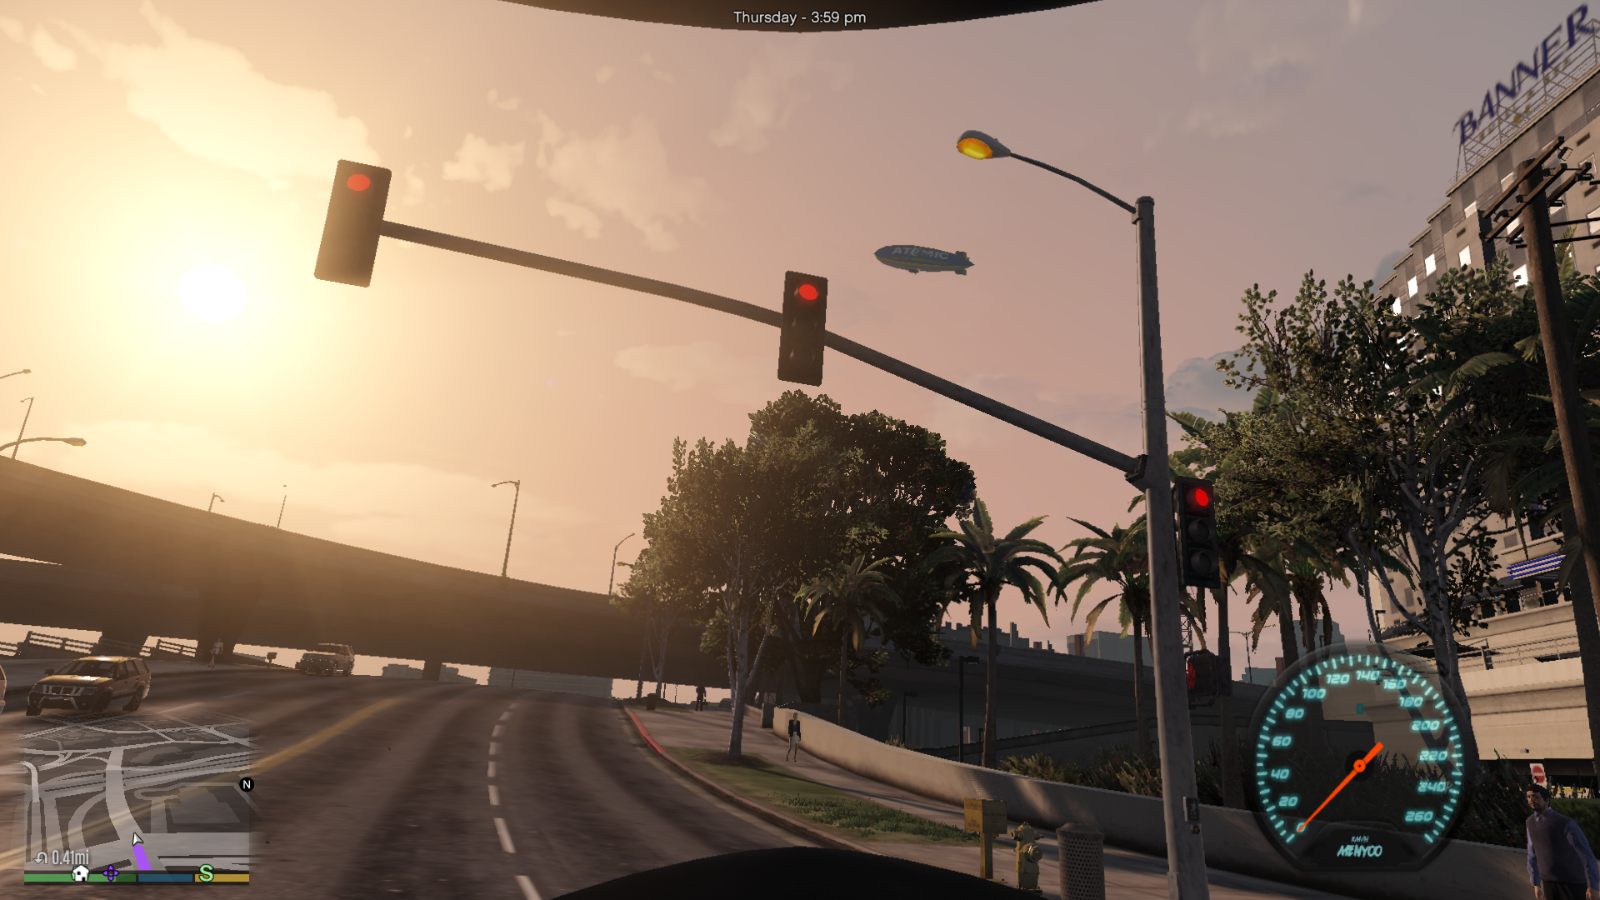red: (316, 151, 388, 296), (778, 258, 830, 395), (1171, 476, 1227, 592)
